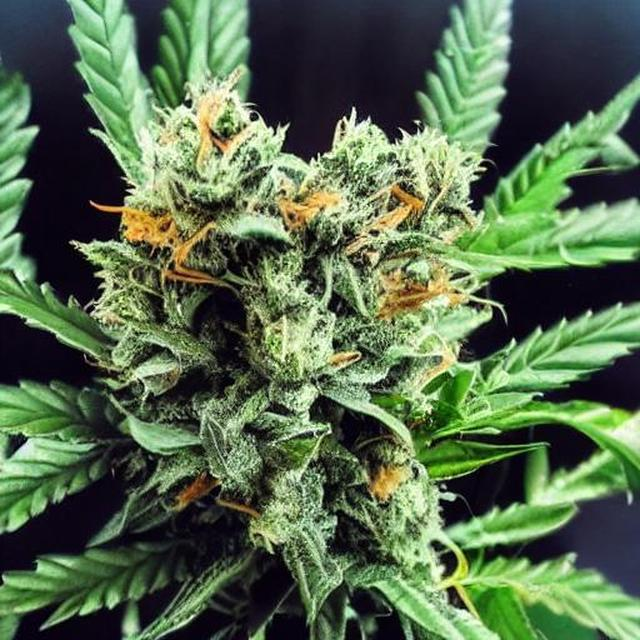Marijuana Joint: (2, 52, 361, 640)
